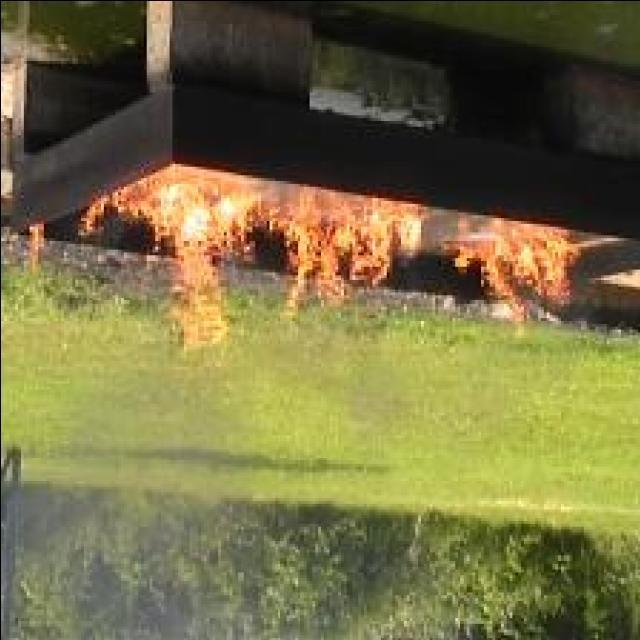Fire: (80, 176, 420, 350), (443, 226, 577, 334), (27, 220, 47, 272)
